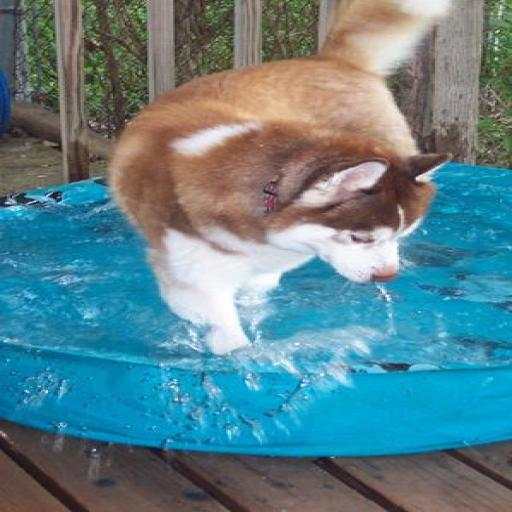dog_face: (291, 154, 450, 286)
